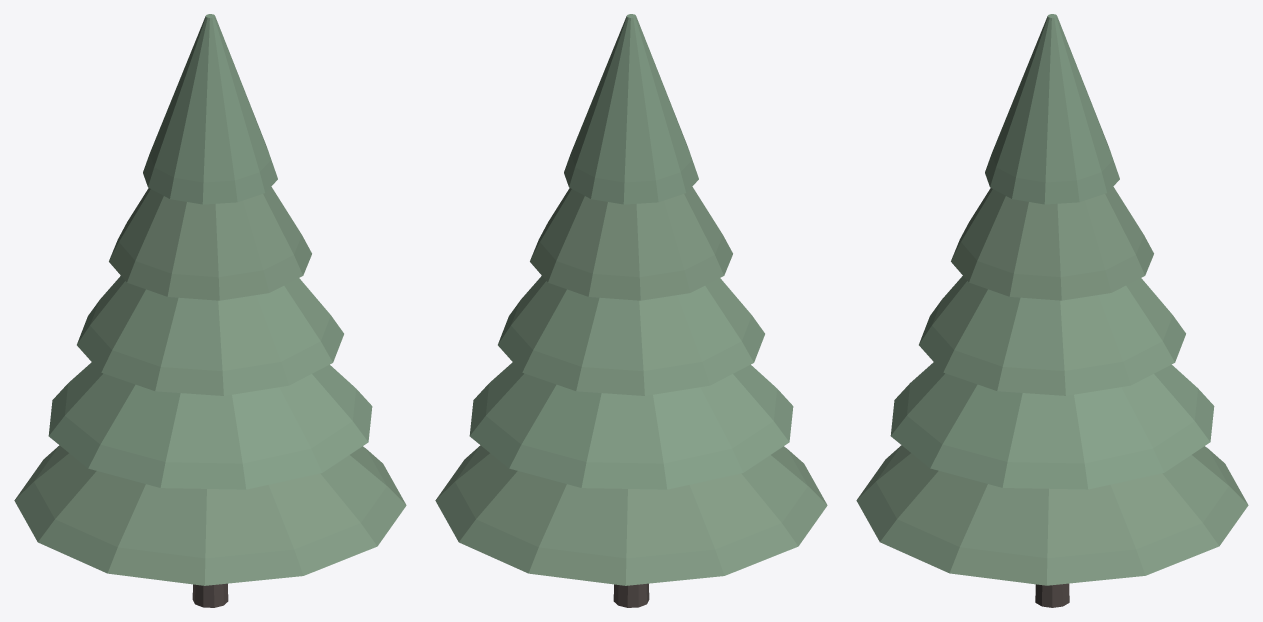
File: tree_pine.glb
3 renders of one model, left to right at view 1: azimuth 30°, elevation 25°; view 2: azimuth 150°, elevation 25°; view 3: azimuth 270°, elevation 25°, orthographic.
Visible parts, largest first — view 1: tree; view 2: tree; view 3: tree.
Boxes of the visible parts, x1,y1,x2,y2 form: tree: (14, 14, 406, 607); tree: (435, 14, 827, 607); tree: (856, 14, 1248, 607).
Size of the model in its own units: 4.09 by 6.72 by 4.09.
